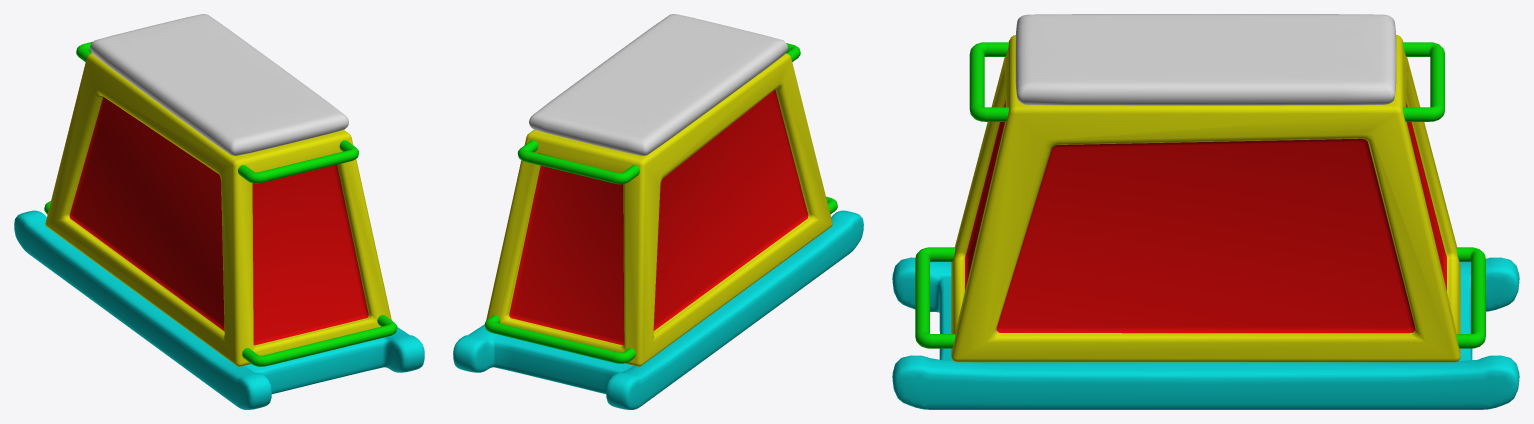
The model's file is Treasure_Cove.fbx.
The picture shows the model from 3 angles, left to right: view 1: azimuth 30°, elevation 25°; view 2: azimuth 150°, elevation 25°; view 3: azimuth 270°, elevation 25°; orthographic projection. The views are drawn at different scales.
Parts seen in each view (by area): view 1: Treasure_Body, Treasure_Lid; view 2: Treasure_Body, Treasure_Lid; view 3: Treasure_Body, Treasure_Lid.
Boxes of the visible parts, left/top/right/bottom form: Treasure_Body: left=14, top=41, right=424, bottom=409; Treasure_Lid: left=90, top=14, right=348, bottom=155; Treasure_Body: left=453, top=43, right=863, bottom=409; Treasure_Lid: left=529, top=14, right=787, bottom=155; Treasure_Body: left=892, top=35, right=1519, bottom=409; Treasure_Lid: left=1015, top=14, right=1396, bottom=105.
Bounding box in the file's own units: 85.11 × 108 × 199.
